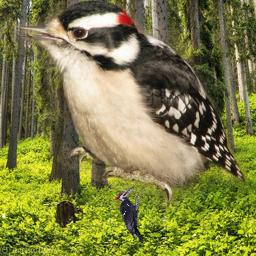Woodpecker: (11, 1, 250, 211), (115, 186, 144, 242)
